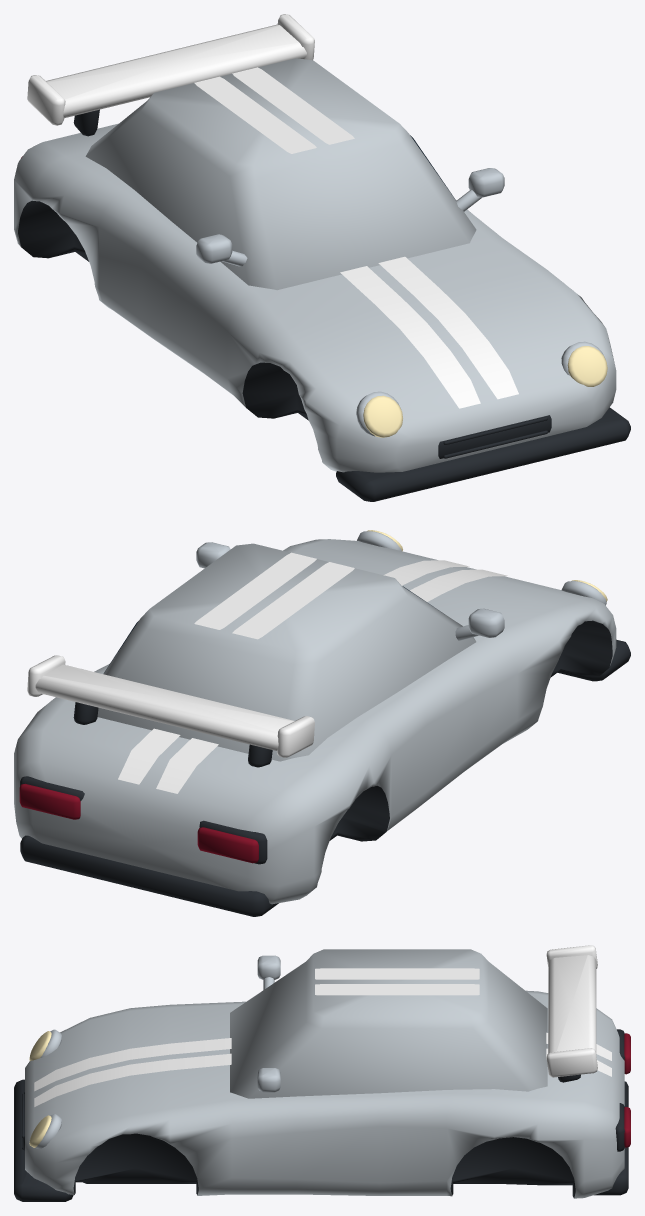
The model's file is auto-deportivo.glb.
The picture shows the model from 3 angles, top to bottom: view 1: azimuth 30°, elevation 25°; view 2: azimuth 150°, elevation 25°; view 3: azimuth 270°, elevation 25°; orthographic projection. The views are drawn at different scales.
Parts seen in each view (by area): view 1: auto-deportivo; view 2: auto-deportivo; view 3: auto-deportivo.
Part boxes in pixels (left/top/right/bottom): auto-deportivo: left=14, top=14, right=630, bottom=501; auto-deportivo: left=14, top=530, right=630, bottom=916; auto-deportivo: left=14, top=945, right=630, bottom=1201.
Size of the model in its own units: 2 by 1.22 by 3.99.
